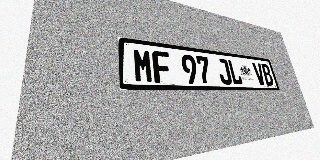7: (195, 56, 213, 84)
9: (180, 54, 199, 84)
B: (260, 63, 274, 86)
F: (152, 50, 172, 83)
J: (216, 58, 233, 85)
L: (227, 59, 243, 85)
M: (132, 48, 154, 83)
V: (252, 62, 267, 85)
